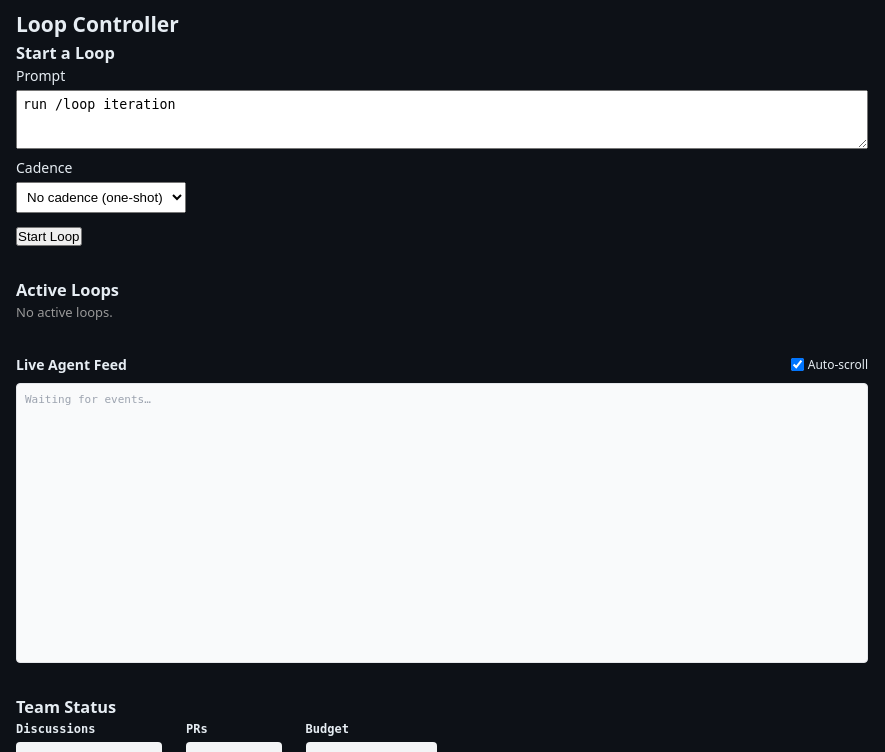
LoopController › Start Loop button is disabled when prompt is empty
Clear the text box at {"x": 442, "y": 120}, box [16,90,868,149]
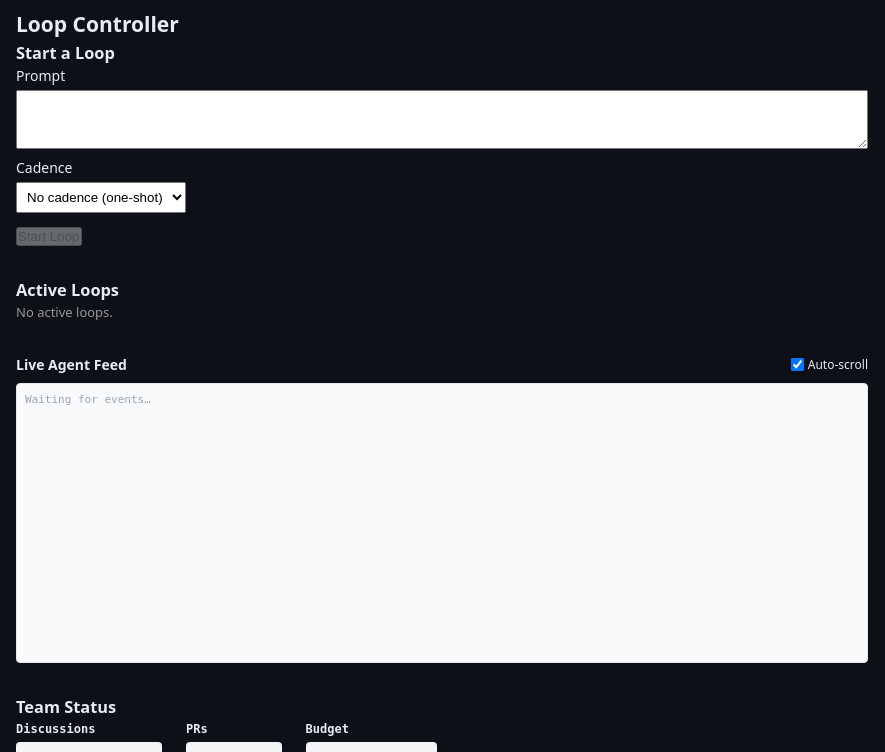
Expected: the button "Start Loop" is disabled, [16,227,82,246]
